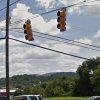Traffic light: (17, 7, 74, 50)
